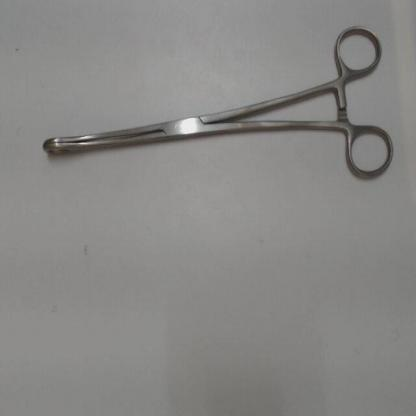Sponge Forceps: (34, 16, 397, 190)
